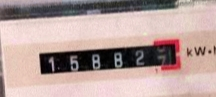1: (46, 54, 57, 72)
2: (134, 48, 146, 66)
5: (68, 54, 80, 71)
7: (156, 53, 168, 65)
8: (89, 52, 102, 69), (112, 50, 124, 68)
screen: (31, 35, 187, 83)
